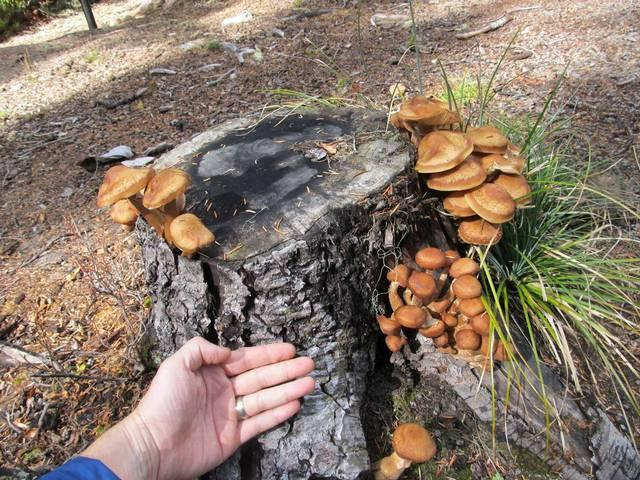Edible Mushroom: (393, 85, 537, 249), (374, 250, 525, 370), (91, 163, 195, 227), (372, 421, 436, 479), (168, 212, 215, 257)
